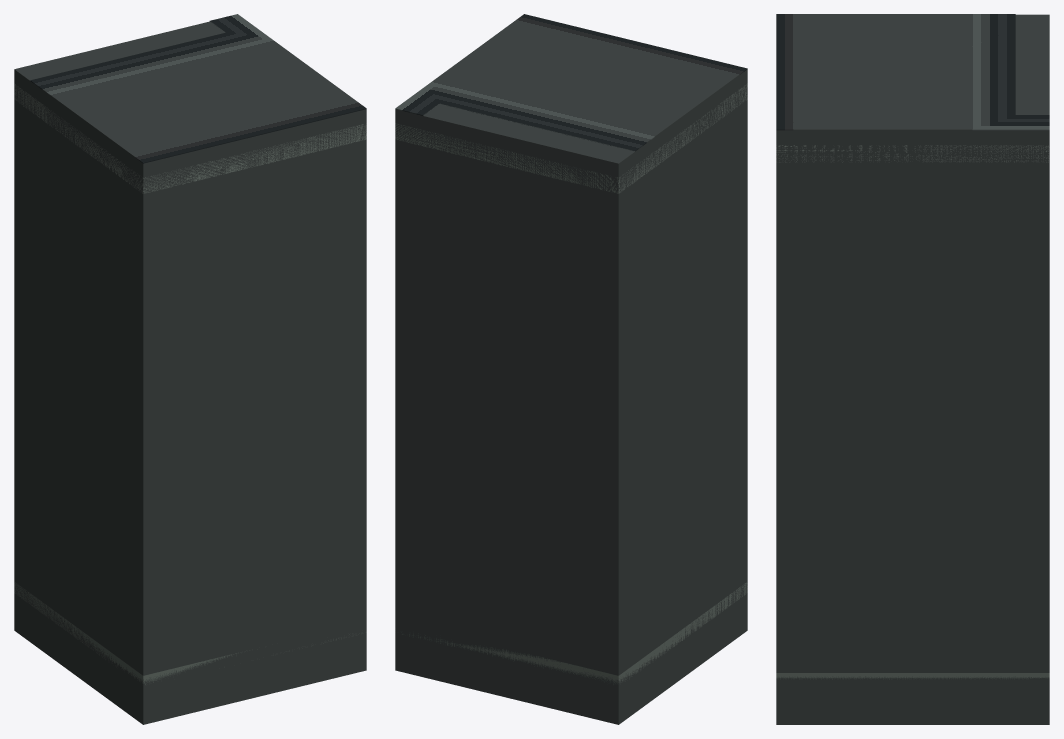
Rendered from CMU3DInteriorVehicleAPCCornerInverseL.glb.
3 views of the same model, side by side, from view 1: azimuth 30°, elevation 25°; view 2: azimuth 150°, elevation 25°; view 3: azimuth 270°, elevation 25° (orthographic). The views are drawn at different scales.
Parts seen in each view (by area): view 1: cabin bulkhead, cabin bulkhead source finish, upper armor trim, lower armor trim; view 2: cabin bulkhead, cabin bulkhead source finish, upper armor trim, lower armor trim; view 3: cabin bulkhead, cabin bulkhead source finish, lower armor trim, upper armor trim.
Boxes of the visible parts, left/top/right/bottom form: cabin bulkhead: left=14, top=21, right=366, bottom=724; cabin bulkhead source finish: left=30, top=14, right=366, bottom=163; upper armor trim: left=14, top=83, right=366, bottom=193; lower armor trim: left=14, top=582, right=366, bottom=684; cabin bulkhead: left=395, top=69, right=747, bottom=724; cabin bulkhead source finish: left=395, top=14, right=747, bottom=151; upper armor trim: left=395, top=83, right=747, bottom=193; lower armor trim: left=401, top=582, right=747, bottom=684; cabin bulkhead: left=776, top=14, right=1049, bottom=724; cabin bulkhead source finish: left=776, top=14, right=1049, bottom=130; lower armor trim: left=776, top=673, right=1049, bottom=679; upper armor trim: left=776, top=145, right=1049, bottom=162.
Bounding box in the file's own units: 1 × 2.4 × 1.
Materials: 4 (1 with a texture image).
